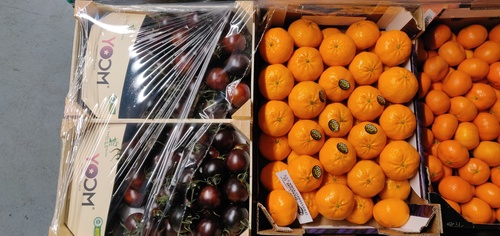orange: (349, 160, 388, 197)
